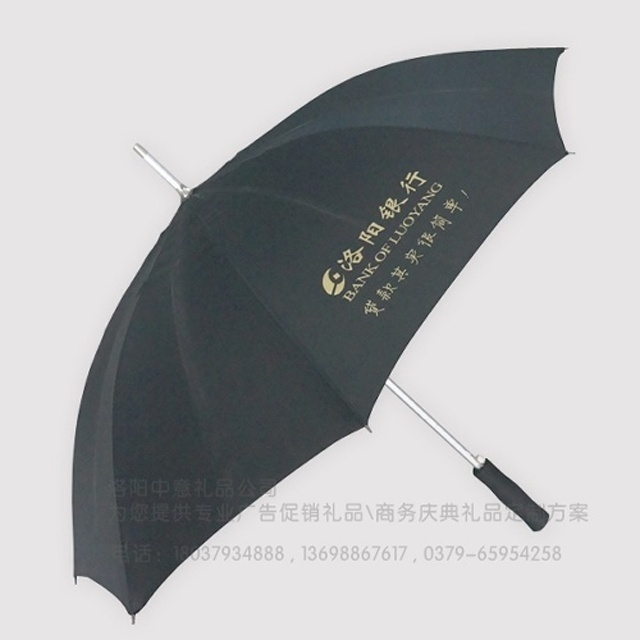umbrella: (63, 44, 575, 627)
